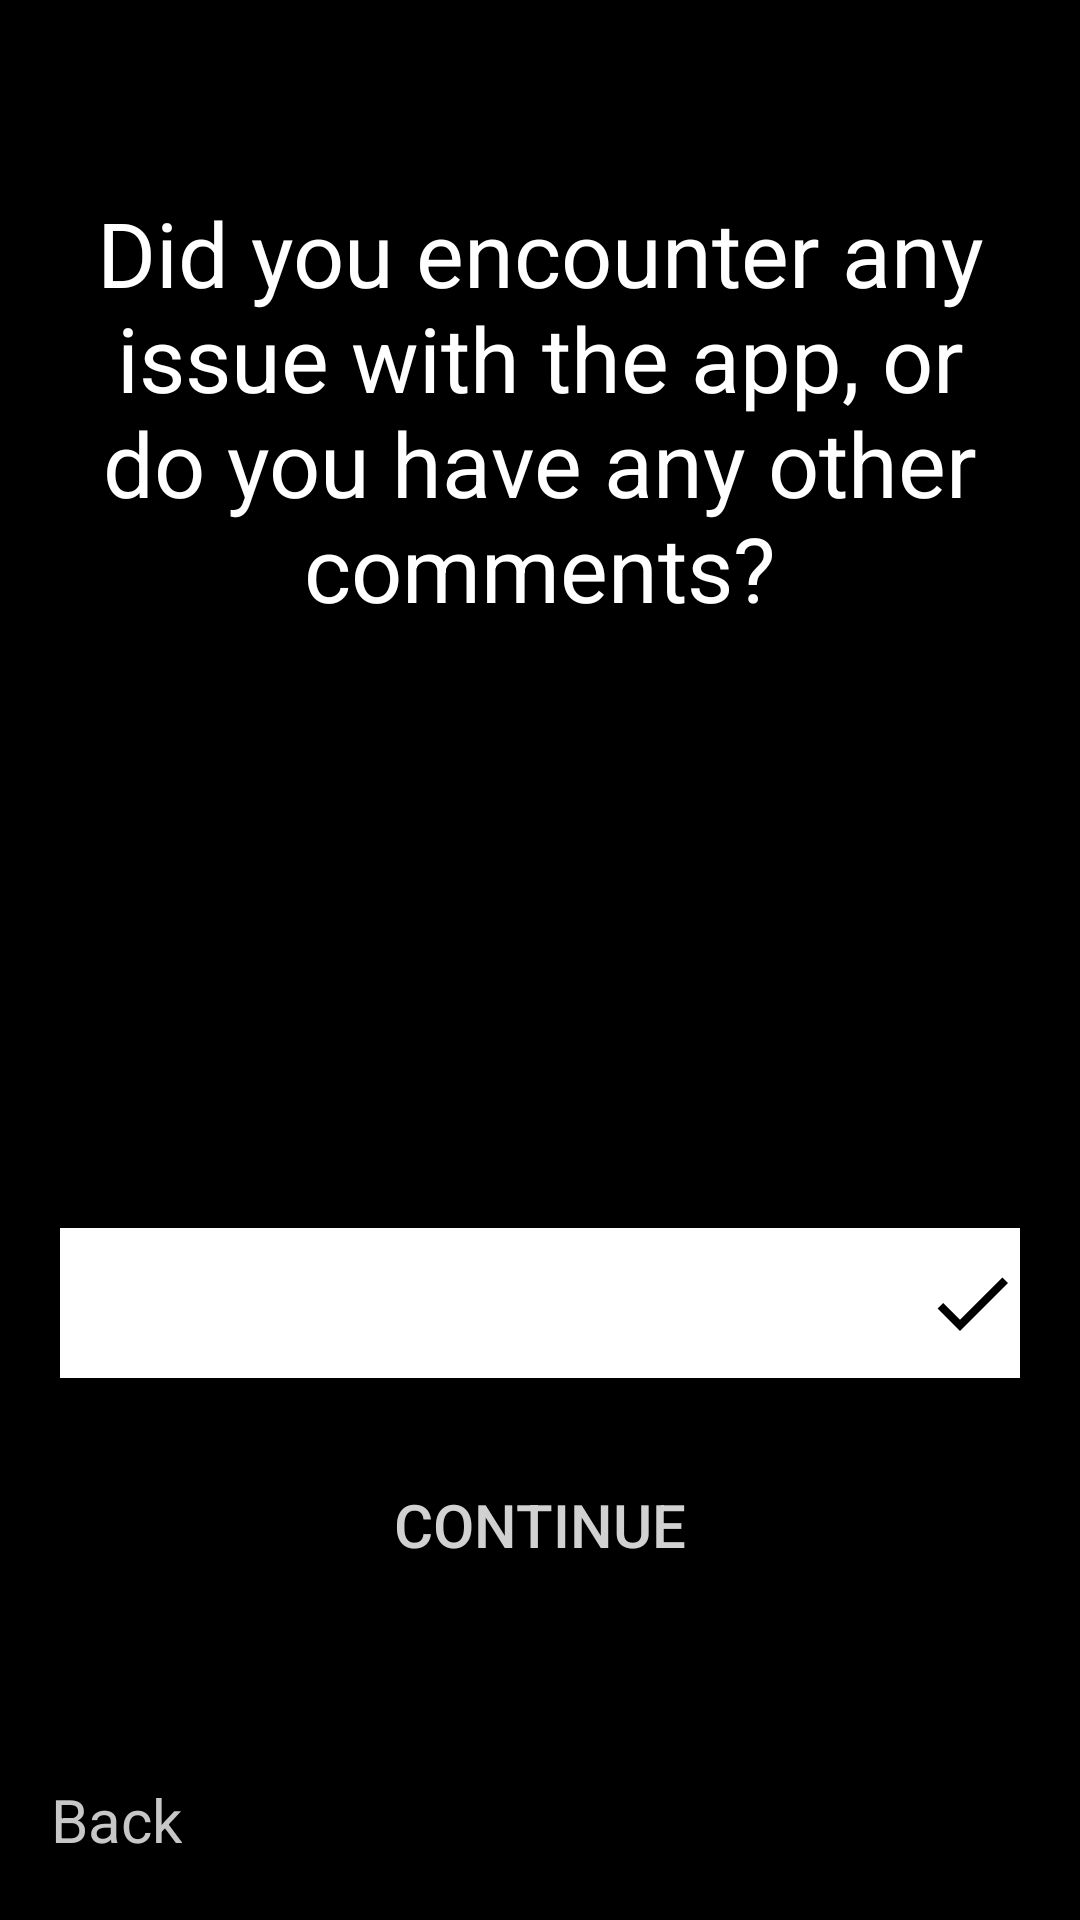

Named icons in this screenshot (1080px x 1920px) and their bounding boxes, box(x1, y1, x2, y2):
done: box(937, 1277, 1008, 1331)
